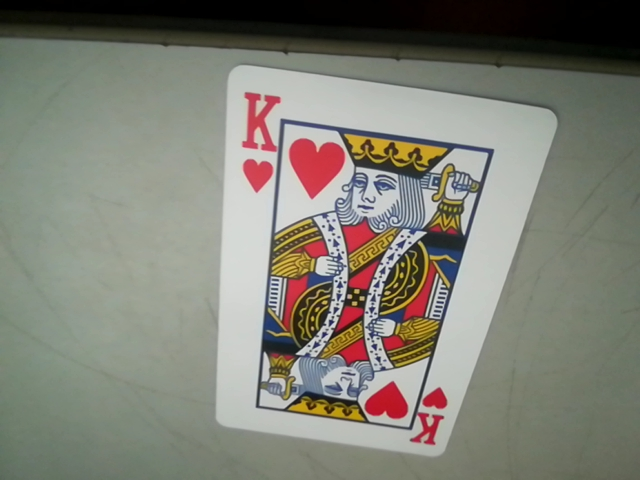hx k: (243, 89, 278, 193), (406, 397, 457, 453)
